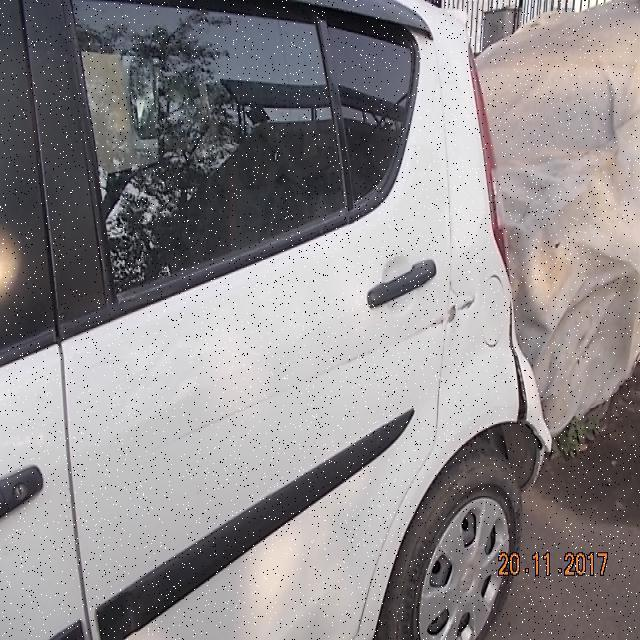doorouter-dent: (74, 244, 447, 639)
quaterpanel-dent: (440, 208, 526, 551)
